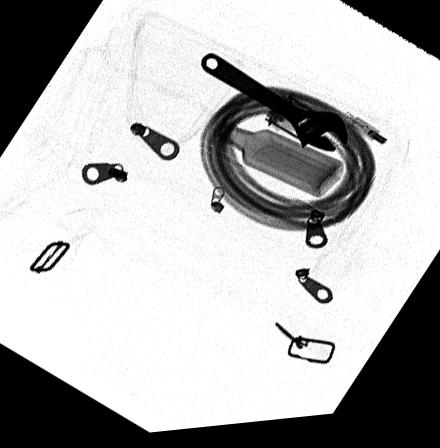Wrench: (199, 55, 346, 159)
